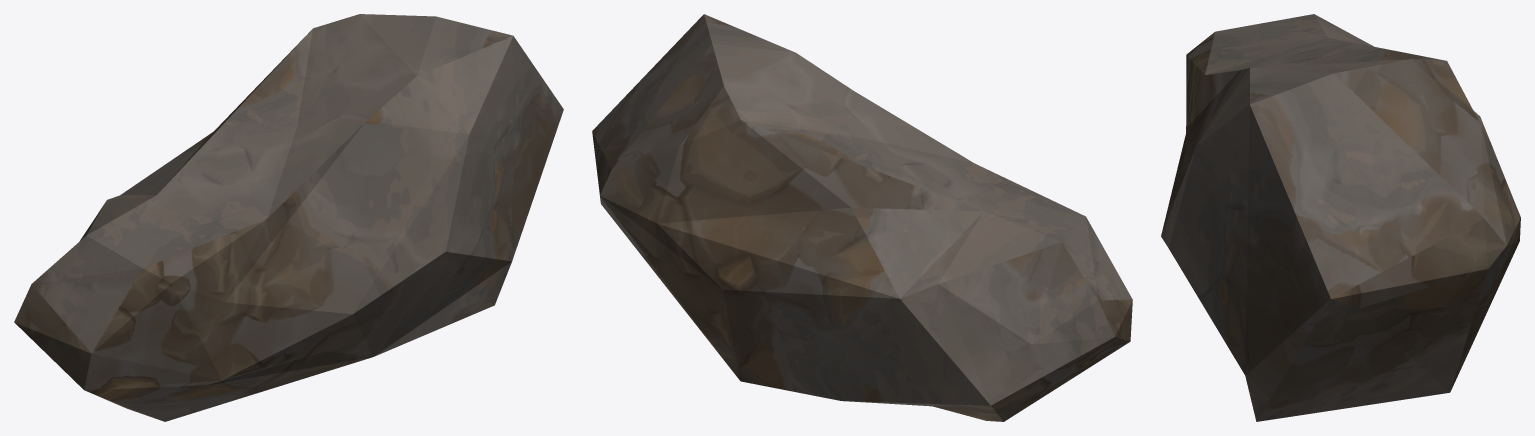
File: rock-finish.fbx
The picture shows the model from 3 angles, left to right: view 1: azimuth 30°, elevation 25°; view 2: azimuth 150°, elevation 25°; view 3: azimuth 270°, elevation 25°; orthographic projection. The views are drawn at different scales.
Visible parts, largest first — view 1: rock; view 2: rock; view 3: rock.
Part boxes in pixels (x1,y1,x2,y2): rock: (14, 14, 563, 421); rock: (592, 14, 1132, 421); rock: (1161, 14, 1520, 421).
Bounding box in the file's own units: 136 × 78.5 × 63.2.
Materials: 1 (1 with a texture image).
